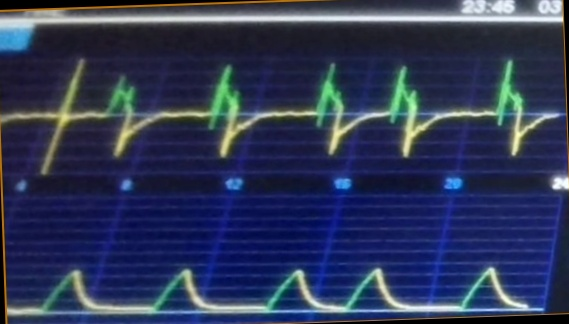Accumulation Flow: (3, 54, 561, 173)
Volume: (10, 255, 526, 314)
